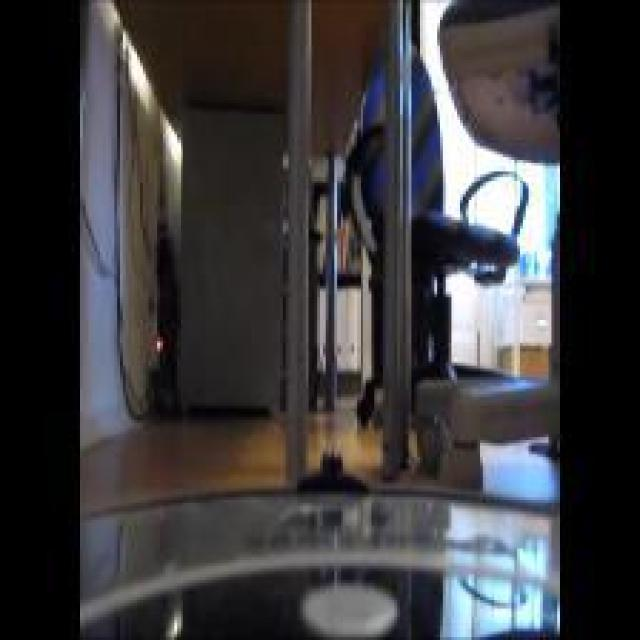other: (447, 272, 548, 369), (139, 326, 161, 368)
